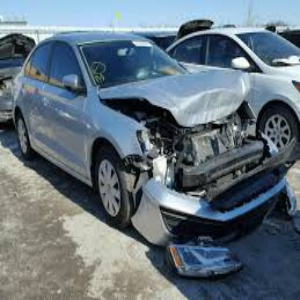bumper: (144, 191, 218, 226)
